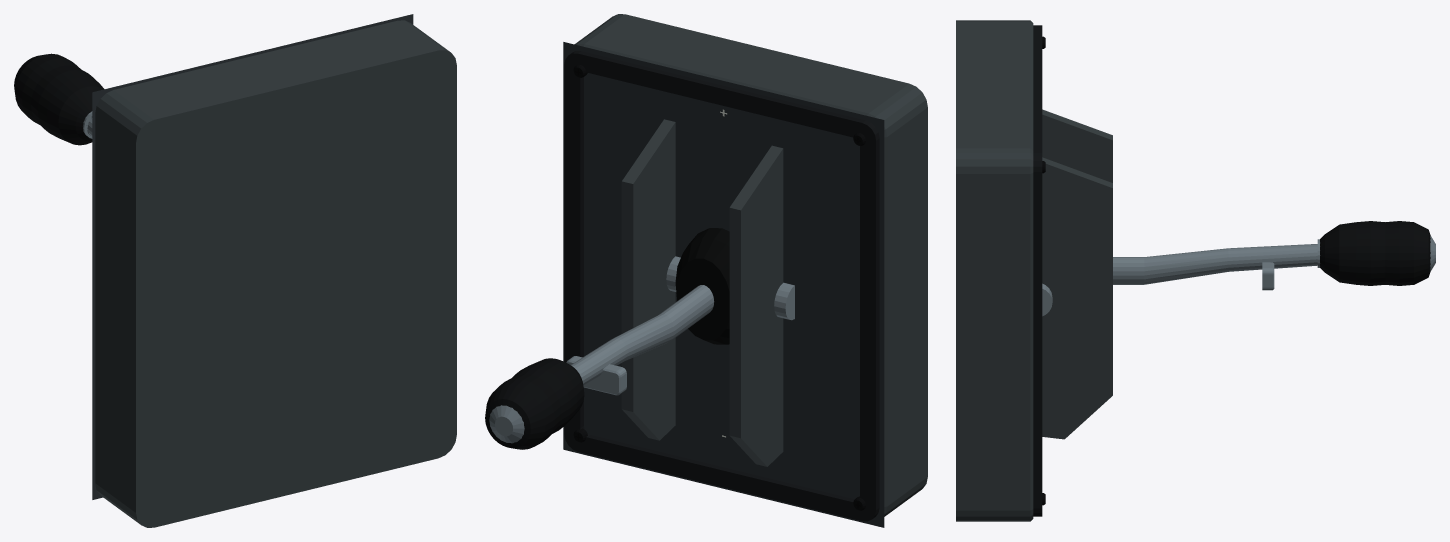
Rendered from MFDStudio.obj.
The picture shows the model from 3 angles, left to right: view 1: azimuth 30°, elevation 25°; view 2: azimuth 150°, elevation 25°; view 3: azimuth 270°, elevation 25°; orthographic projection. The views are drawn at different scales.
Parts seen in each view (by area): view 1: MFDStudioBody, MFDStudioShifterLever, MFDStudioScreen; view 2: MFDStudioScreen, MFDStudioBody, MFDStudioBodyMechanism, MFDStudioBodyBezel, MFDStudioShifterLever, MFDStudioBoot, MFDStudioBodyPivot, MFDStudioScrews; view 3: MFDStudioBody, MFDStudioBodyMechanism, MFDStudioShifterLever, MFDStudioBodyBezel.
Part boxes in pixels (left/top/right/bottom): MFDStudioBody: left=95, top=20, right=456, bottom=527; MFDStudioShifterLever: left=14, top=53, right=104, bottom=145; MFDStudioScreen: left=92, top=14, right=413, bottom=499; MFDStudioScreen: left=563, top=42, right=884, bottom=527; MFDStudioBody: left=574, top=14, right=927, bottom=516; MFDStudioBodyMechanism: left=621, top=119, right=783, bottom=466; MFDStudioBodyBezel: left=564, top=51, right=879, bottom=521; MFDStudioShifterLever: left=485, top=285, right=714, bottom=449; MFDStudioBoot: left=675, top=228, right=729, bottom=344; MFDStudioBodyPivot: left=666, top=256, right=794, bottom=320; MFDStudioScrews: left=573, top=64, right=865, bottom=510; MFDStudioBody: left=956, top=20, right=1033, bottom=521; MFDStudioBodyMechanism: left=1042, top=109, right=1112, bottom=439; MFDStudioShifterLever: left=1113, top=221, right=1435, bottom=290; MFDStudioBodyBezel: left=1033, top=25, right=1042, bottom=516.
Size of the model in its own units: 0.14 by 0.17 by 0.199.
8 materials, 1 textured.
